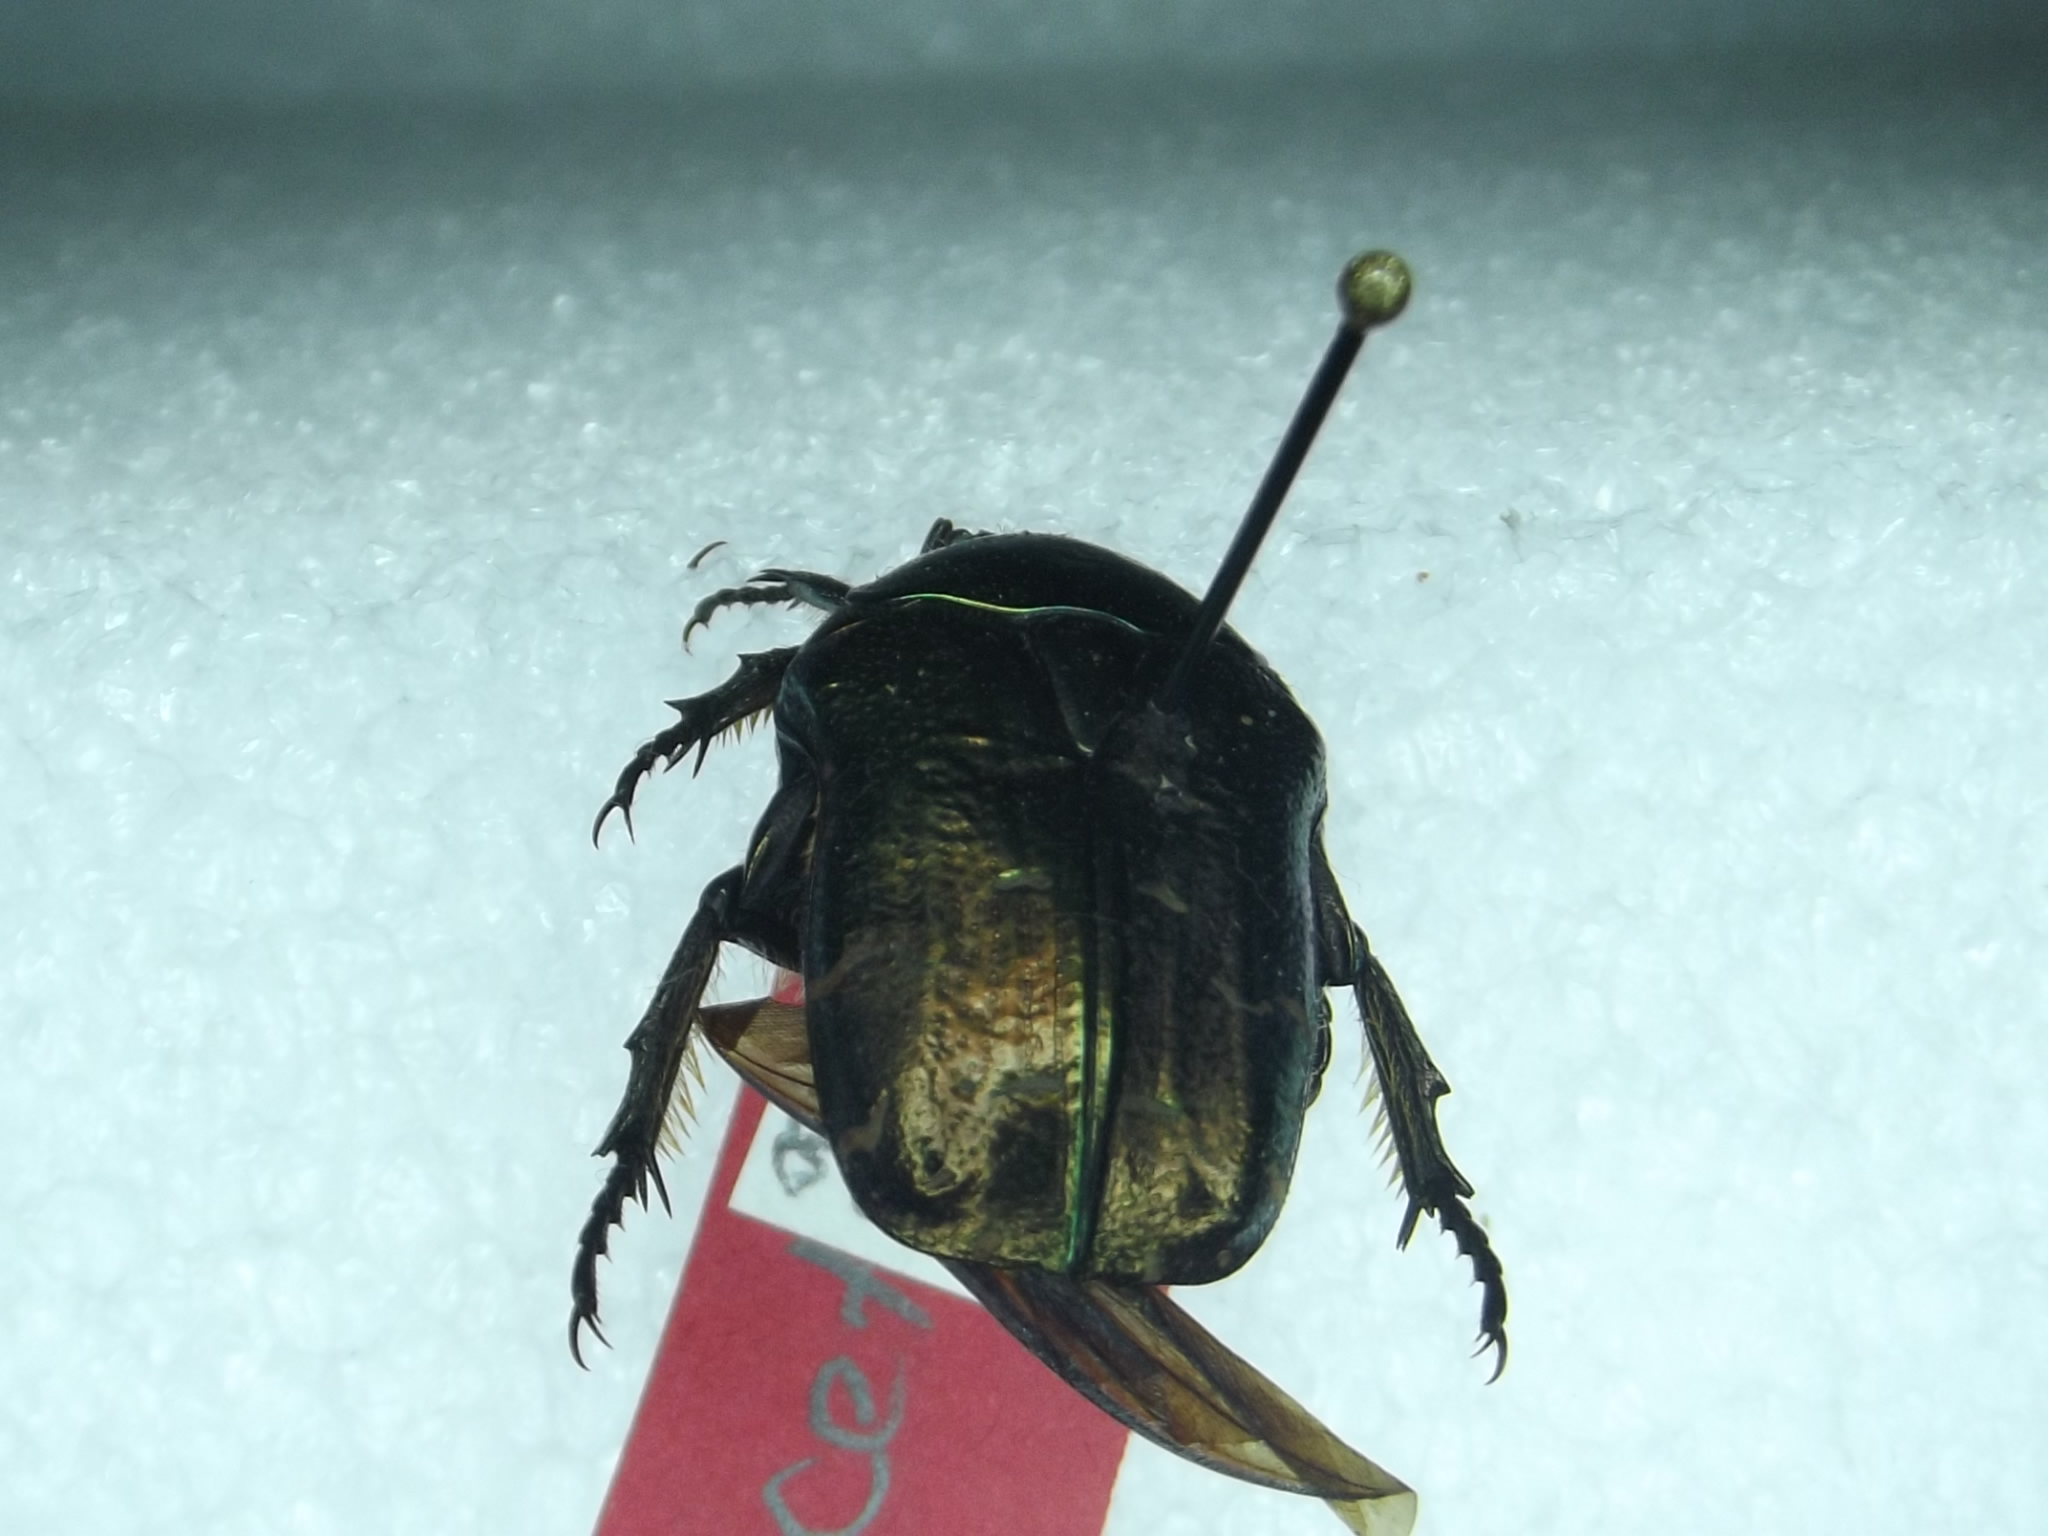Cetonia_kemali: (543, 508, 1546, 1533)
